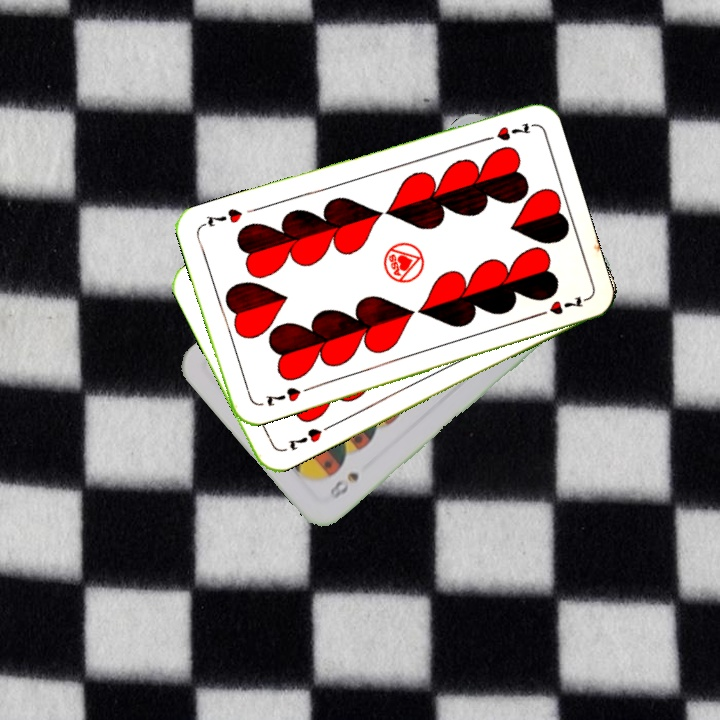H7: (477, 119, 535, 145), (285, 424, 325, 453), (261, 383, 303, 409)
S8: (325, 468, 362, 502)
